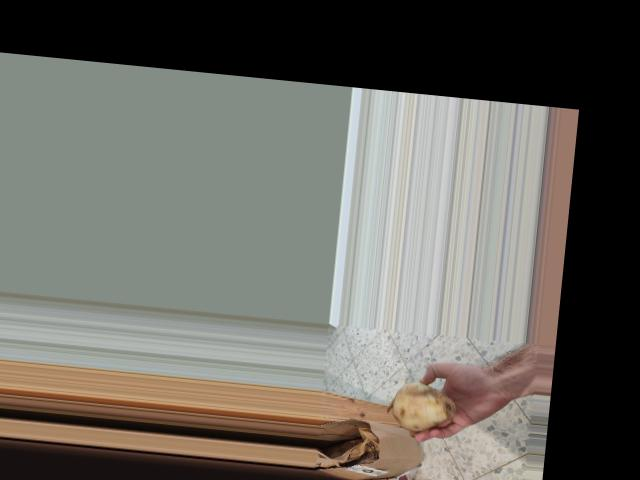onion: (387, 377, 461, 438)
